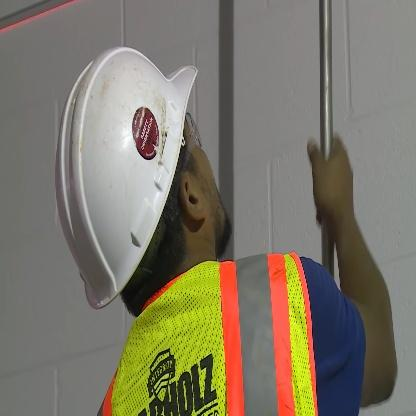helmet: (55, 44, 225, 302)
